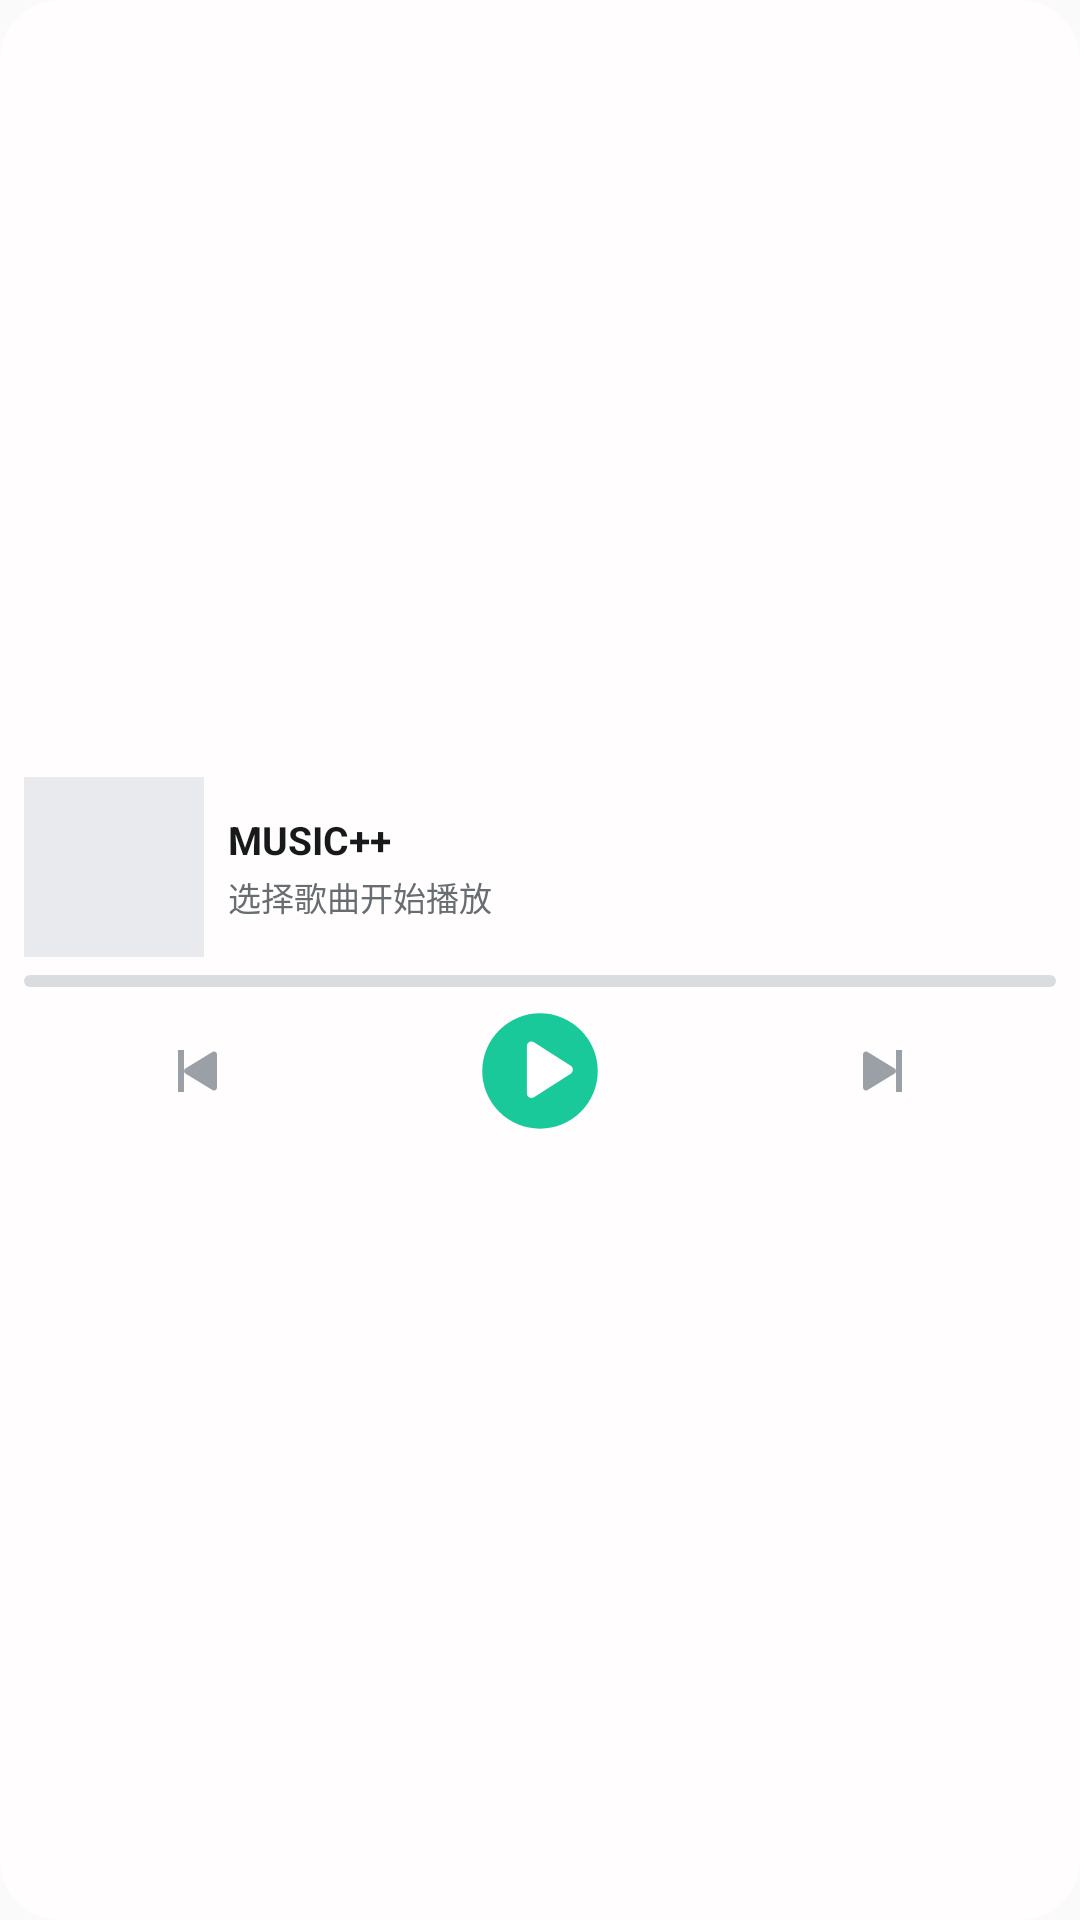

Screen size 1080x1920. Icon name, then its box in pixels as rect(x1, y1, x2, y2):
上一首: rect(178, 1050, 217, 1092)
下一首: rect(863, 1050, 902, 1092)
播放或暂停: rect(482, 1013, 598, 1129)
